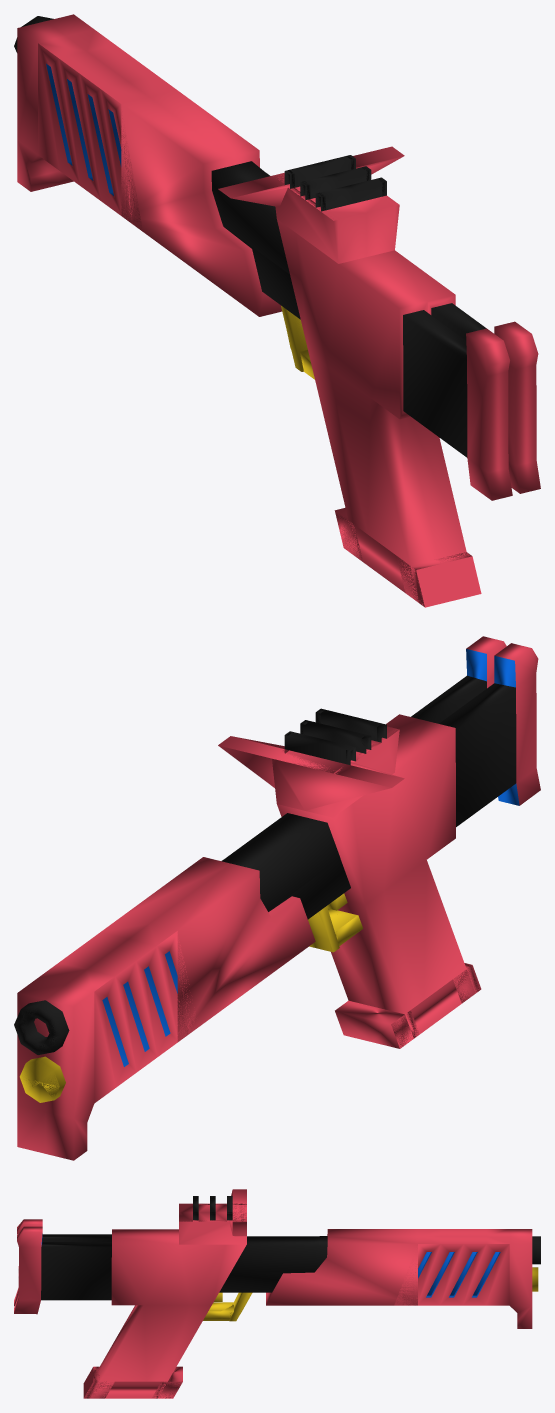
File: gun.fbx
3 renders of one model, top to bottom at view 1: azimuth 30°, elevation 25°; view 2: azimuth 150°, elevation 25°; view 3: azimuth 270°, elevation 25°, orthographic. The views are drawn at different scales.
Parts seen in each view (by area): view 1: Cube.001; view 2: Cube.001; view 3: Cube.001.
Boxes of the visible parts, x1,y1,x2,y2 form: Cube.001: (14,14,540,607); Cube.001: (14,636,540,1160); Cube.001: (14,1189,540,1398).
Size of the model in its own units: 326 by 605 by 1550.
